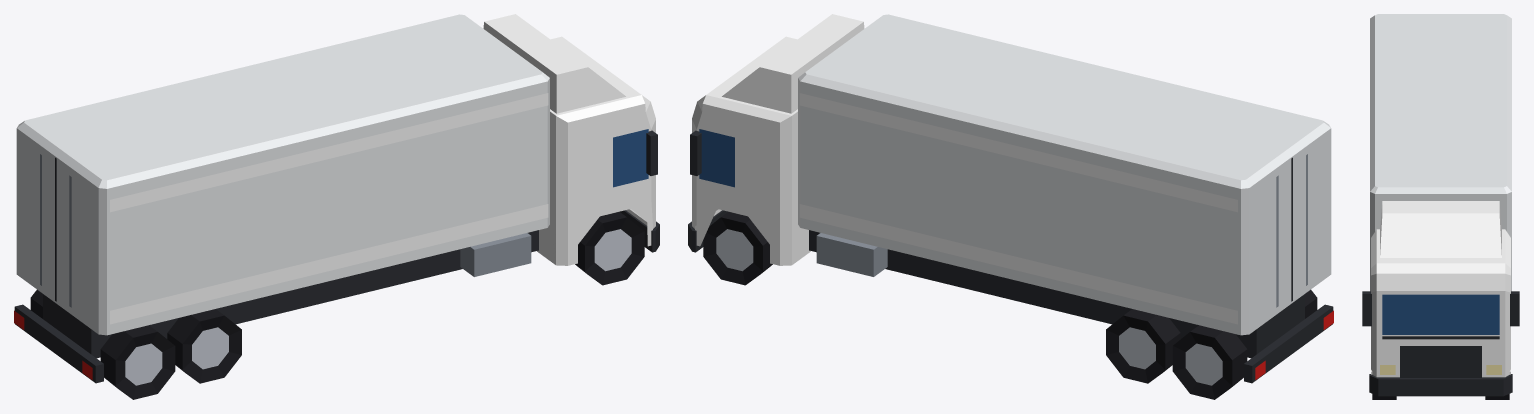
The model's file is truck.glb.
3 renders of one model, left to right at view 1: azimuth 30°, elevation 25°; view 2: azimuth 150°, elevation 25°; view 3: azimuth 270°, elevation 25°, orthographic. The views are drawn at different scales.
Parts seen in each view (by area): view 1: Body; view 2: Body; view 3: Body.
Part boxes in pixels (left/top/right/bottom): Body: left=14, top=14, right=659, bottom=399; Body: left=688, top=14, right=1333, bottom=399; Body: left=1362, top=14, right=1519, bottom=399.
Bounding box in the file's own units: 0.9532 × 0.36 × 0.284.
